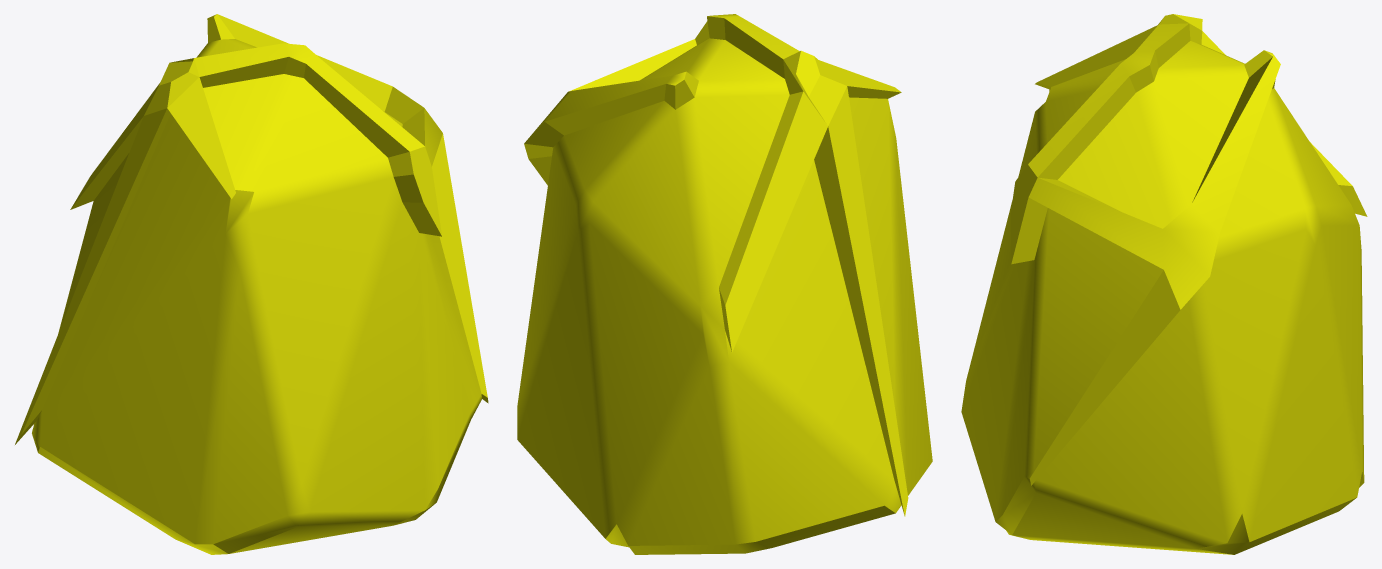
File: vein.fbx
The picture shows the model from 3 angles, left to right: view 1: azimuth 30°, elevation 25°; view 2: azimuth 150°, elevation 25°; view 3: azimuth 270°, elevation 25°; orthographic projection. The views are drawn at different scales.
Parts seen in each view (by area): view 1: Vein; view 2: Vein; view 3: Vein.
Part boxes in pixels (x1,y1,x2,y2): Vein: [15, 14, 488, 554]; Vein: [517, 14, 932, 554]; Vein: [961, 14, 1367, 554].
Size of the model in its own units: 103 by 110 by 89.28.
